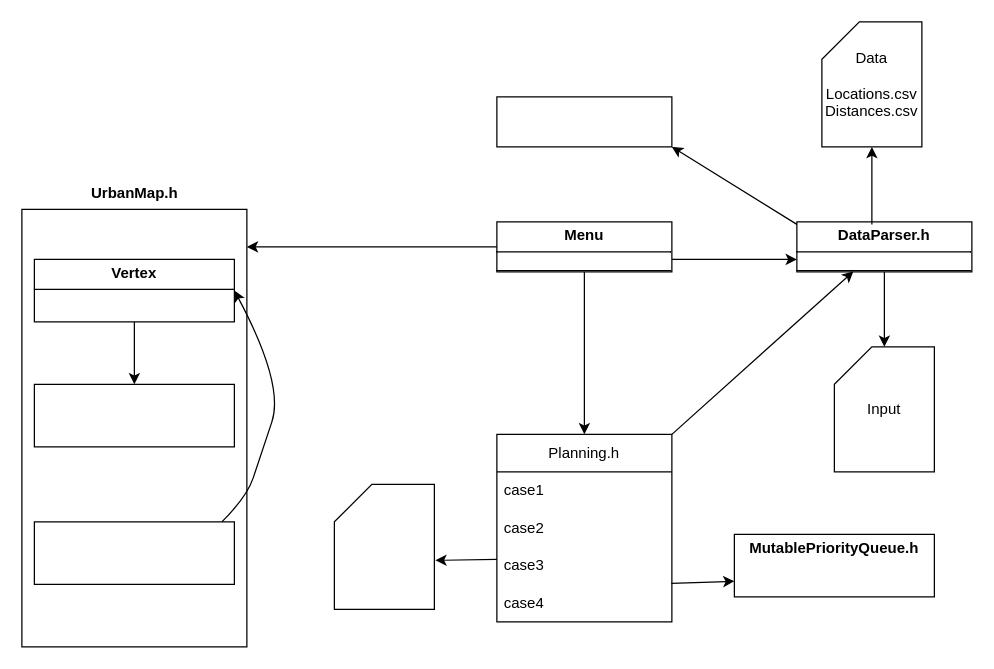
Some shapes in this 994 by 669 pixel diagram are drawn without their labels. The shapes that lost their labels are listed below. From the top down, each one's centre as x and y in pixels, then its label:
At [584,121]: "Cases.h".
At [133,415]: "Edge".
At [133,552]: "UrbanMap".
At [383,546]: "Output".
